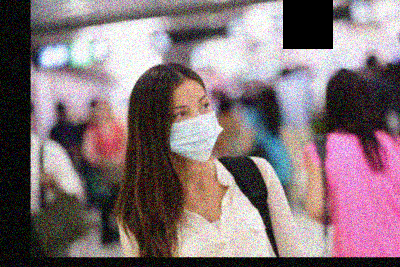with_mask: (167, 91, 225, 162)
